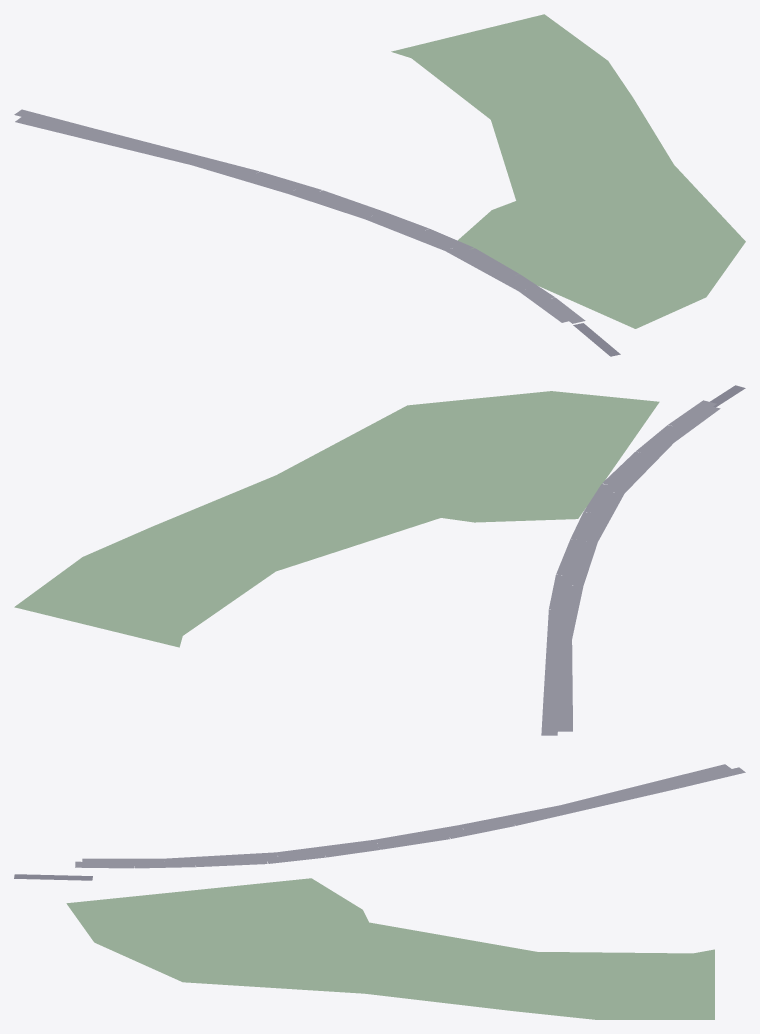
Rendered from 124_132_mid.glb.
3 views of the same model, one above another, from view 1: azimuth 30°, elevation 25°; view 2: azimuth 150°, elevation 25°; view 3: azimuth 270°, elevation 25° (orthographic). The views are drawn at different scales.
Bounding box in the file's own units: 361 × 10.73 × 464.
